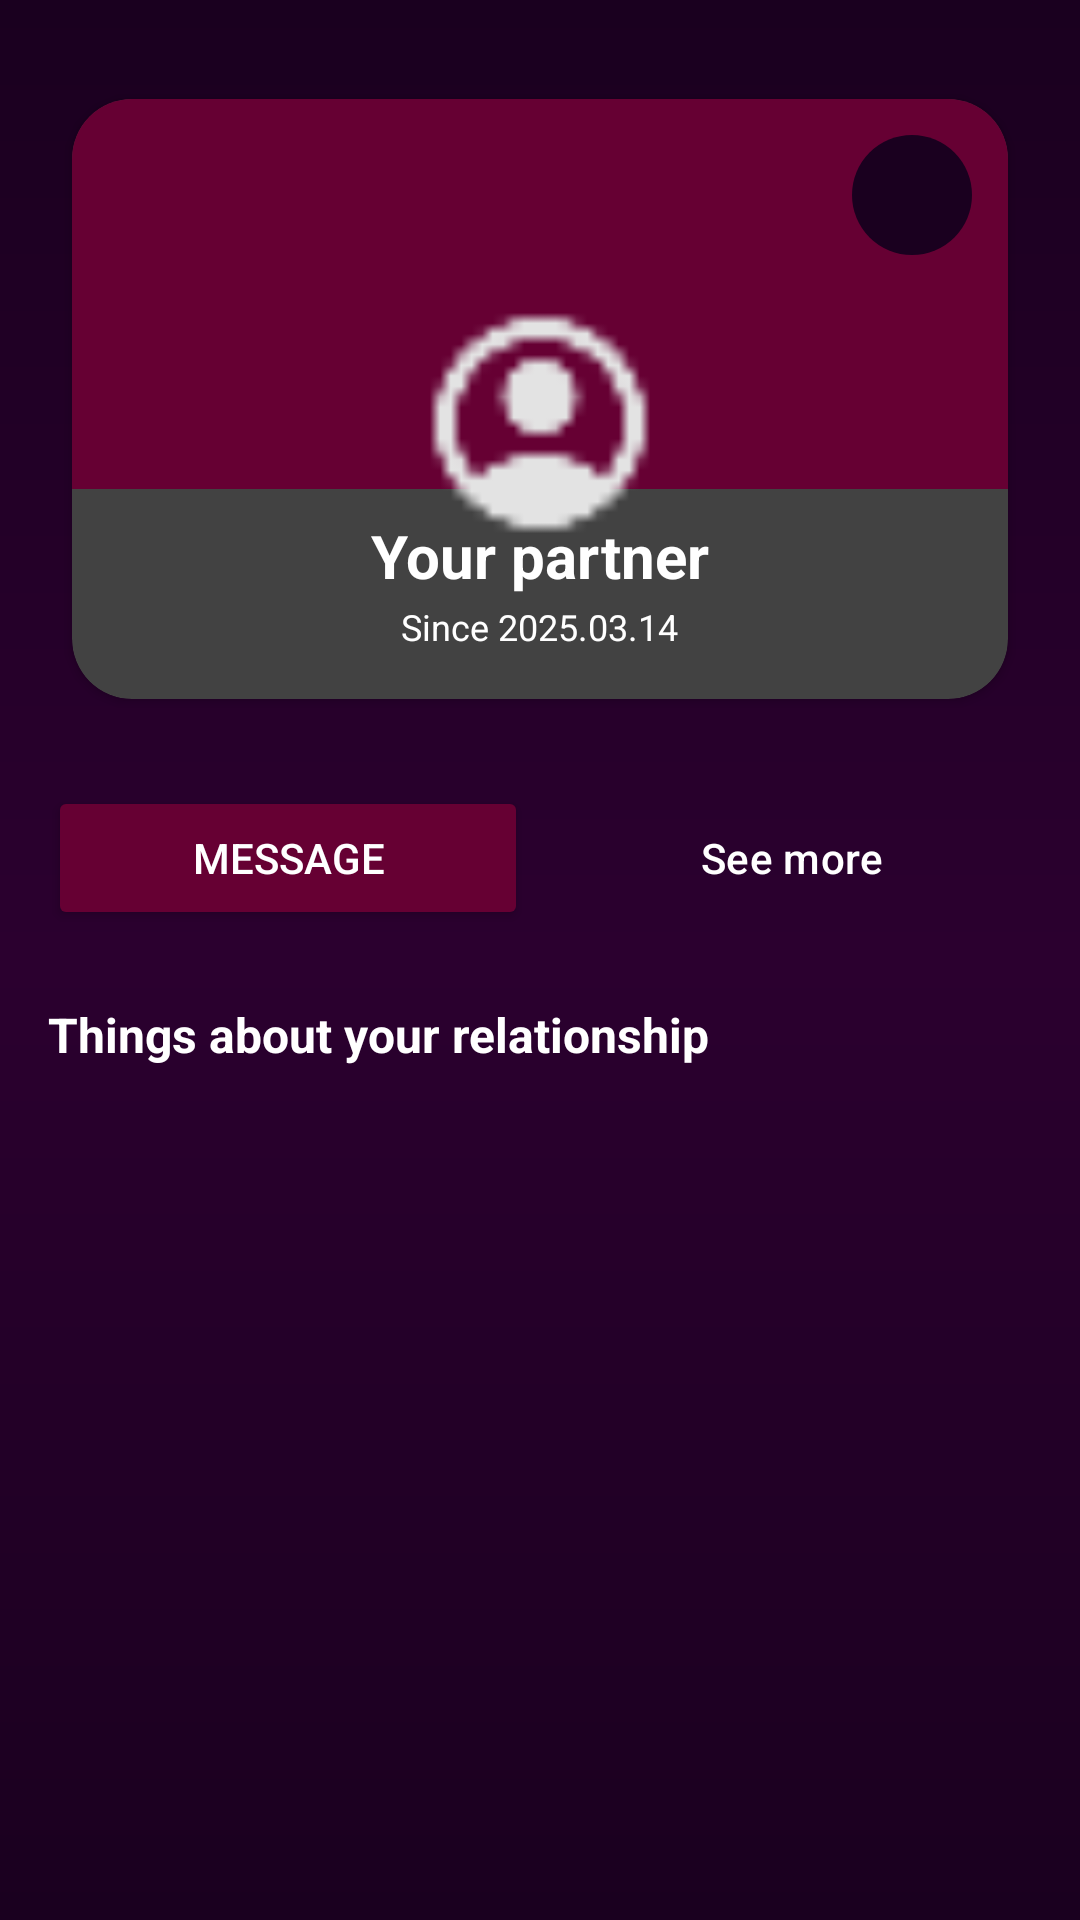

Point at icon controls on the screen. Image size 1080 × 1920, points as point (x, y).
profile: point (540, 440)
